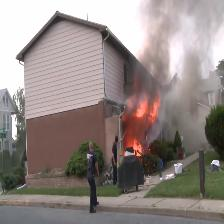fire: (116, 79, 172, 180)
smoke: (128, 1, 224, 87)
